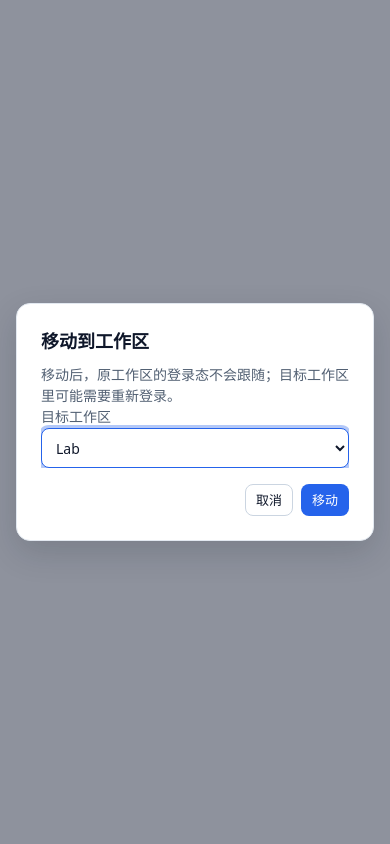
MoveConversationDialog › shows an error and stays open when the move fails
What coordinates should you click on to do the following:
click the button with test id "move-conversation-confirm"
I would click on:
 (325, 500)
Its box is x1=301 y1=484 x2=349 y2=516.
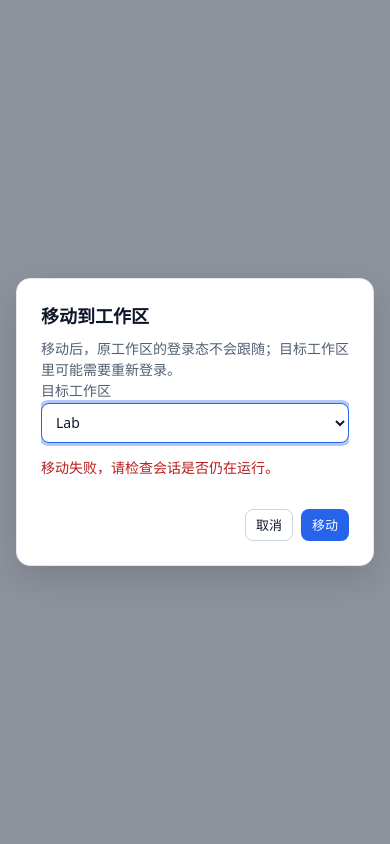
Expected: the text "移动失败" is shown, x1=41 y1=458 x2=279 y2=477
